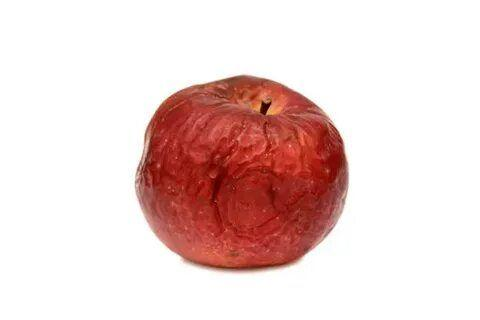Apple: (136, 77, 349, 268)
